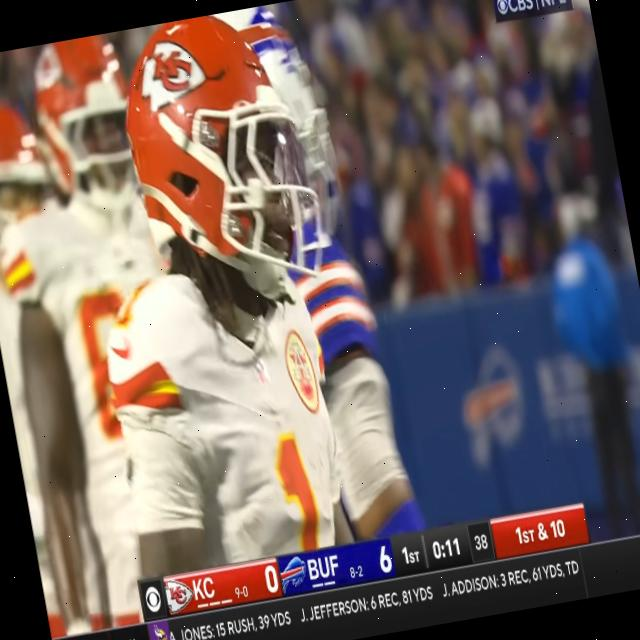Player: (59, 8, 346, 574), (0, 32, 203, 592)
